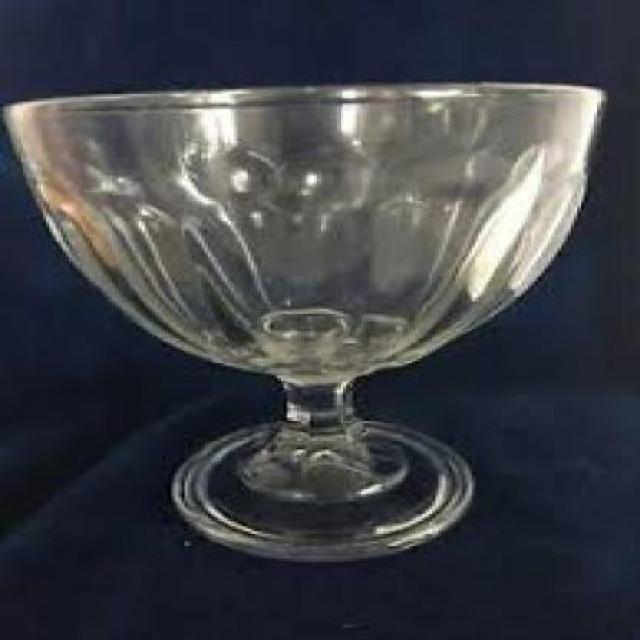kaca: (0, 79, 605, 558)
